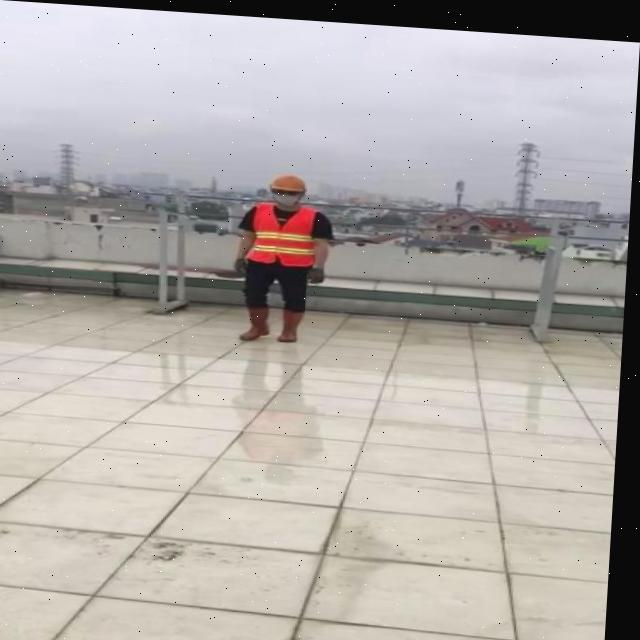Gloves: (311, 261, 329, 280), (238, 253, 253, 273)
Safety-Boot: (245, 301, 276, 337), (283, 304, 309, 338)
Safety-Vest: (251, 197, 323, 264)
